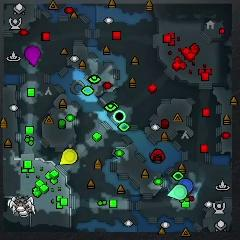p1: (178, 178, 194, 193)
p2: (167, 184, 187, 200)
p2Clone: (113, 110, 126, 123)
p3: (24, 45, 40, 67)
p4: (60, 148, 78, 165)
